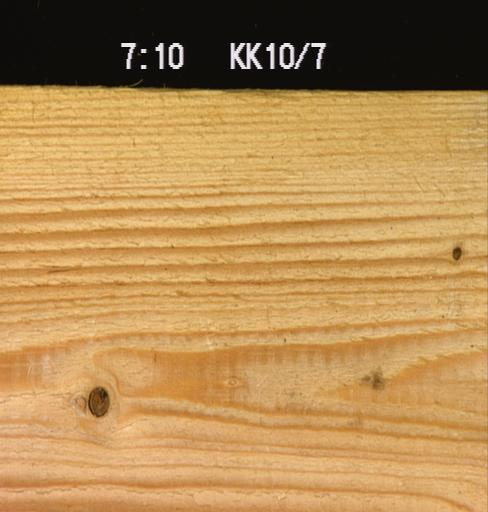dry_knot: (85, 384, 110, 417), (450, 243, 461, 261)
